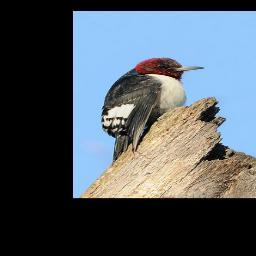Woodpecker: (100, 57, 205, 162)
